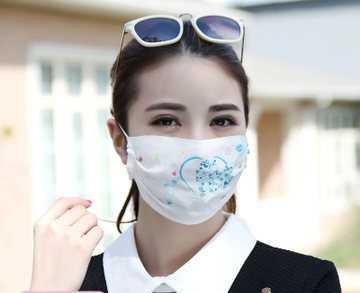OK: (129, 95, 249, 217)
